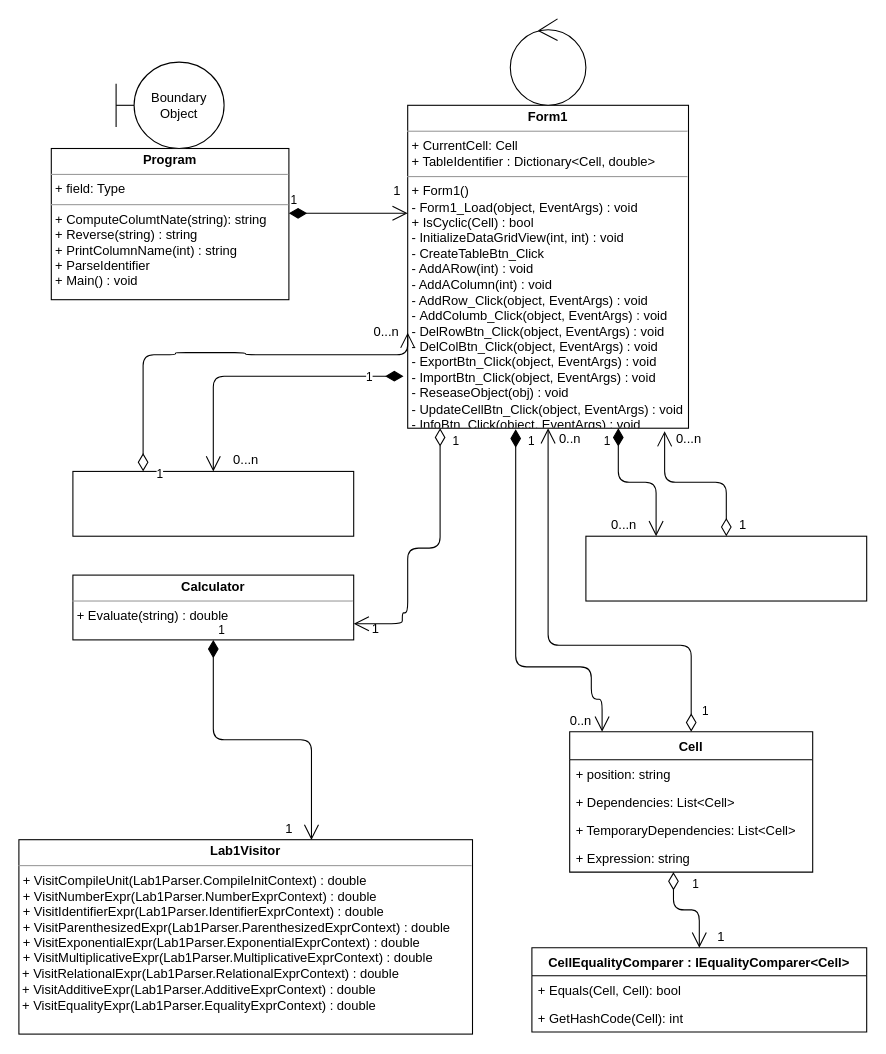
Image size: 886x1054. Some labels were removed from this diagram. Each missing label, with the box of its shape:
Control Object: (509, 18, 586, 105)
ErrorForm + ErrorForm(string) : void: (72, 470, 354, 536)
InfoForm + InfoForm() : void: (585, 535, 867, 601)
